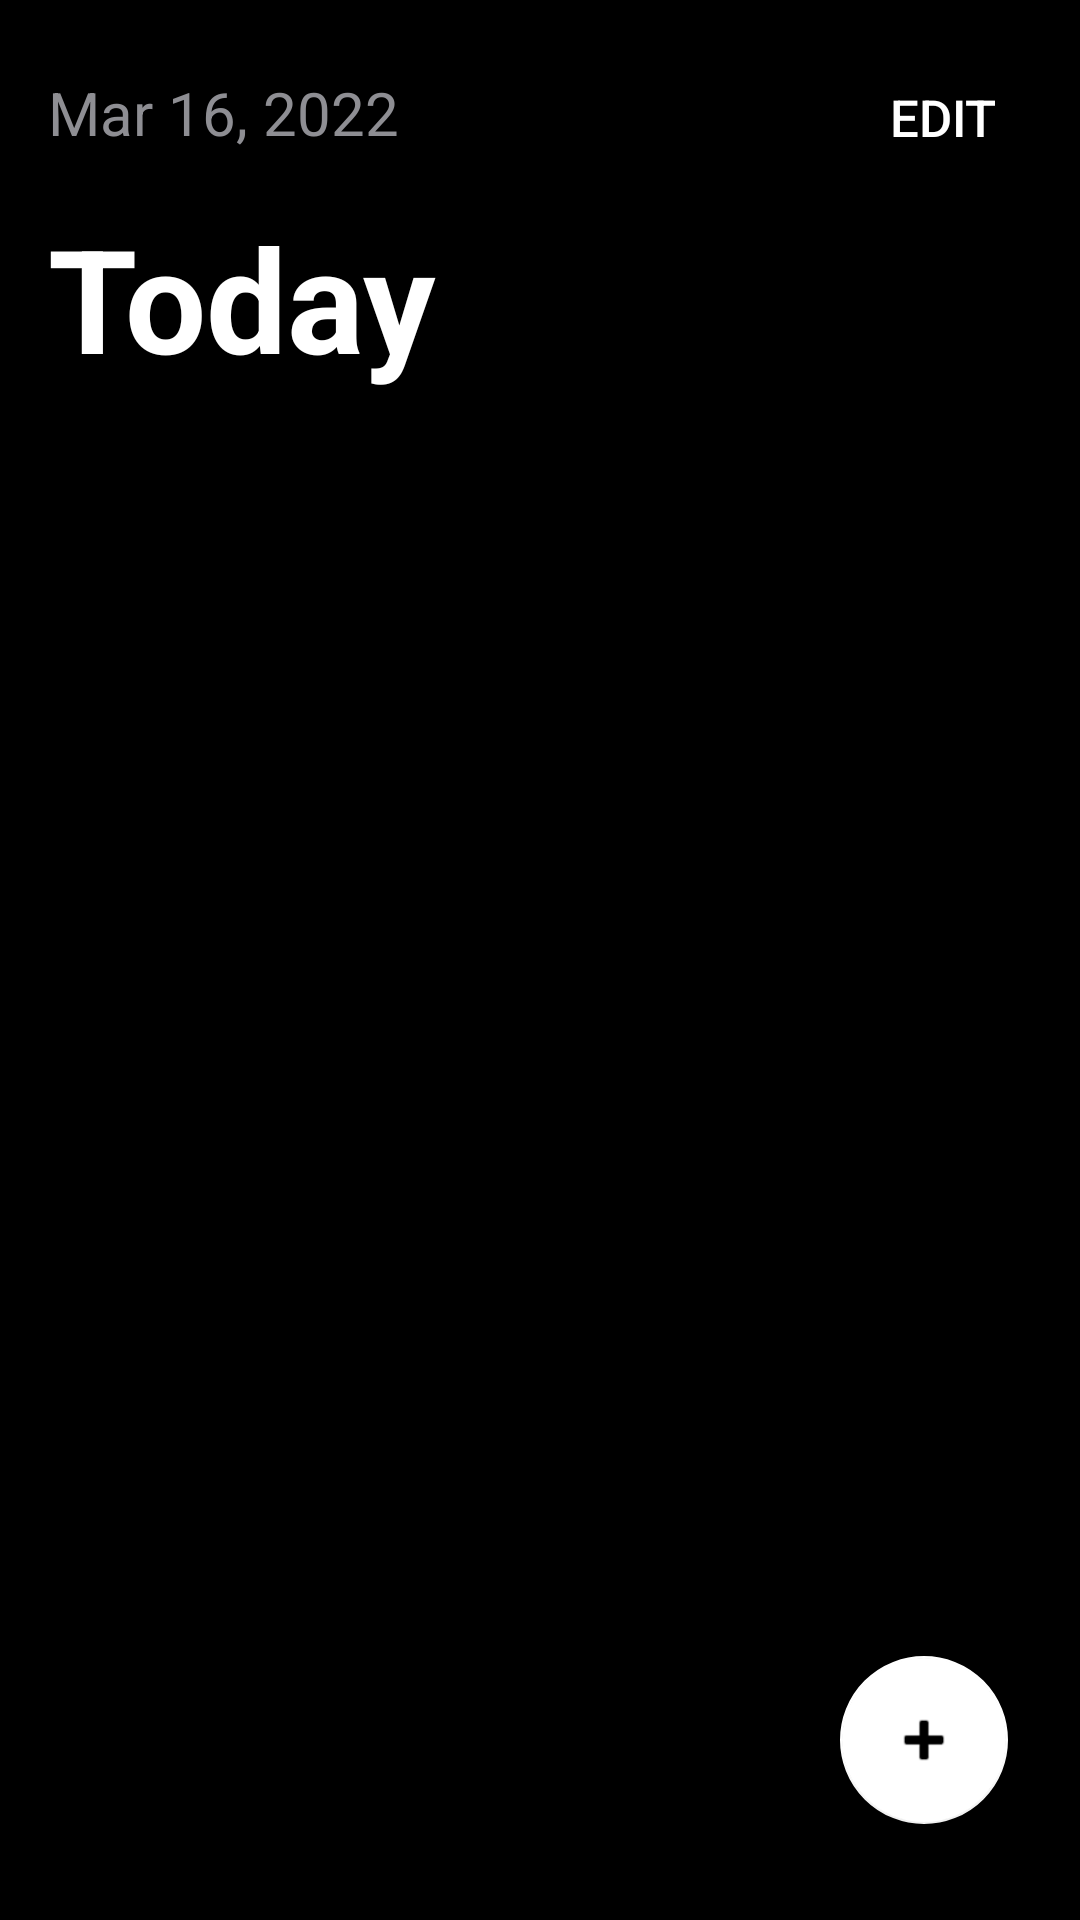

Screen size 1080 × 1920. Icon name, then its box in pixels as (x1, y1, x2, y2):
add: (840, 1656, 1008, 1824)
